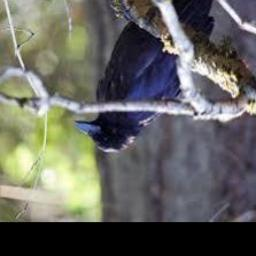Crow: (76, 0, 227, 153)
